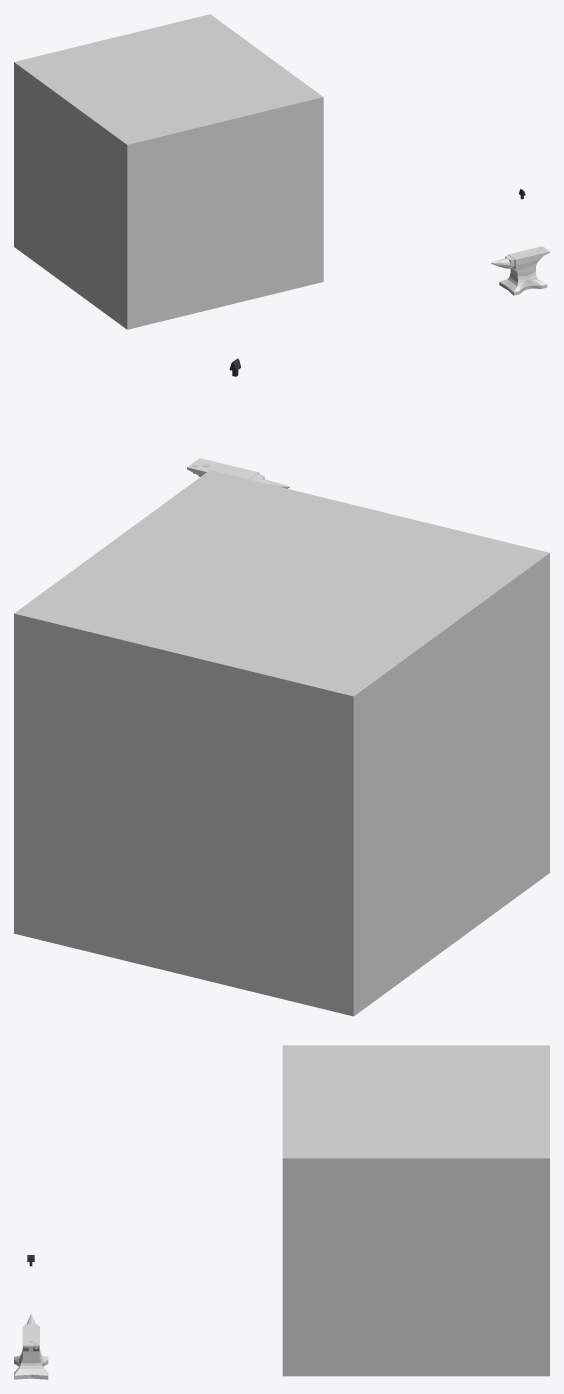
Rendered from bottomfuller.dae.
3 views of the same model, one above another, from view 1: azimuth 30°, elevation 25°; view 2: azimuth 150°, elevation 25°; view 3: azimuth 270°, elevation 25° (orthographic). The views are drawn at different scales.
Visible parts, largest first — view 1: Cube_004, Cube_002; view 2: Cube_004, Cube_002; view 3: Cube_004, Cube_002.
Part boxes in pixels (x1,y1,x2,y2): Cube_004: (14,14,323,329); Cube_002: (491,246,549,295); Cube_004: (14,470,549,1016); Cube_002: (187,458,289,488); Cube_004: (282,1045,549,1376); Cube_002: (14,1314,48,1379).
Size of the model in its own units: 3.18 by 4.01 by 1.8.
1 material, 1 textured.
